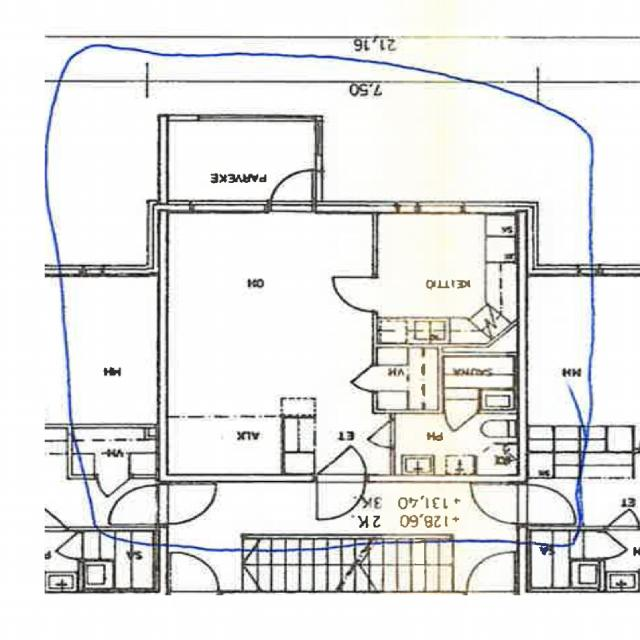door: (318, 474, 365, 520), (318, 436, 365, 481), (270, 164, 313, 212), (330, 276, 378, 312), (356, 420, 394, 448), (341, 364, 378, 391), (444, 408, 476, 439)
